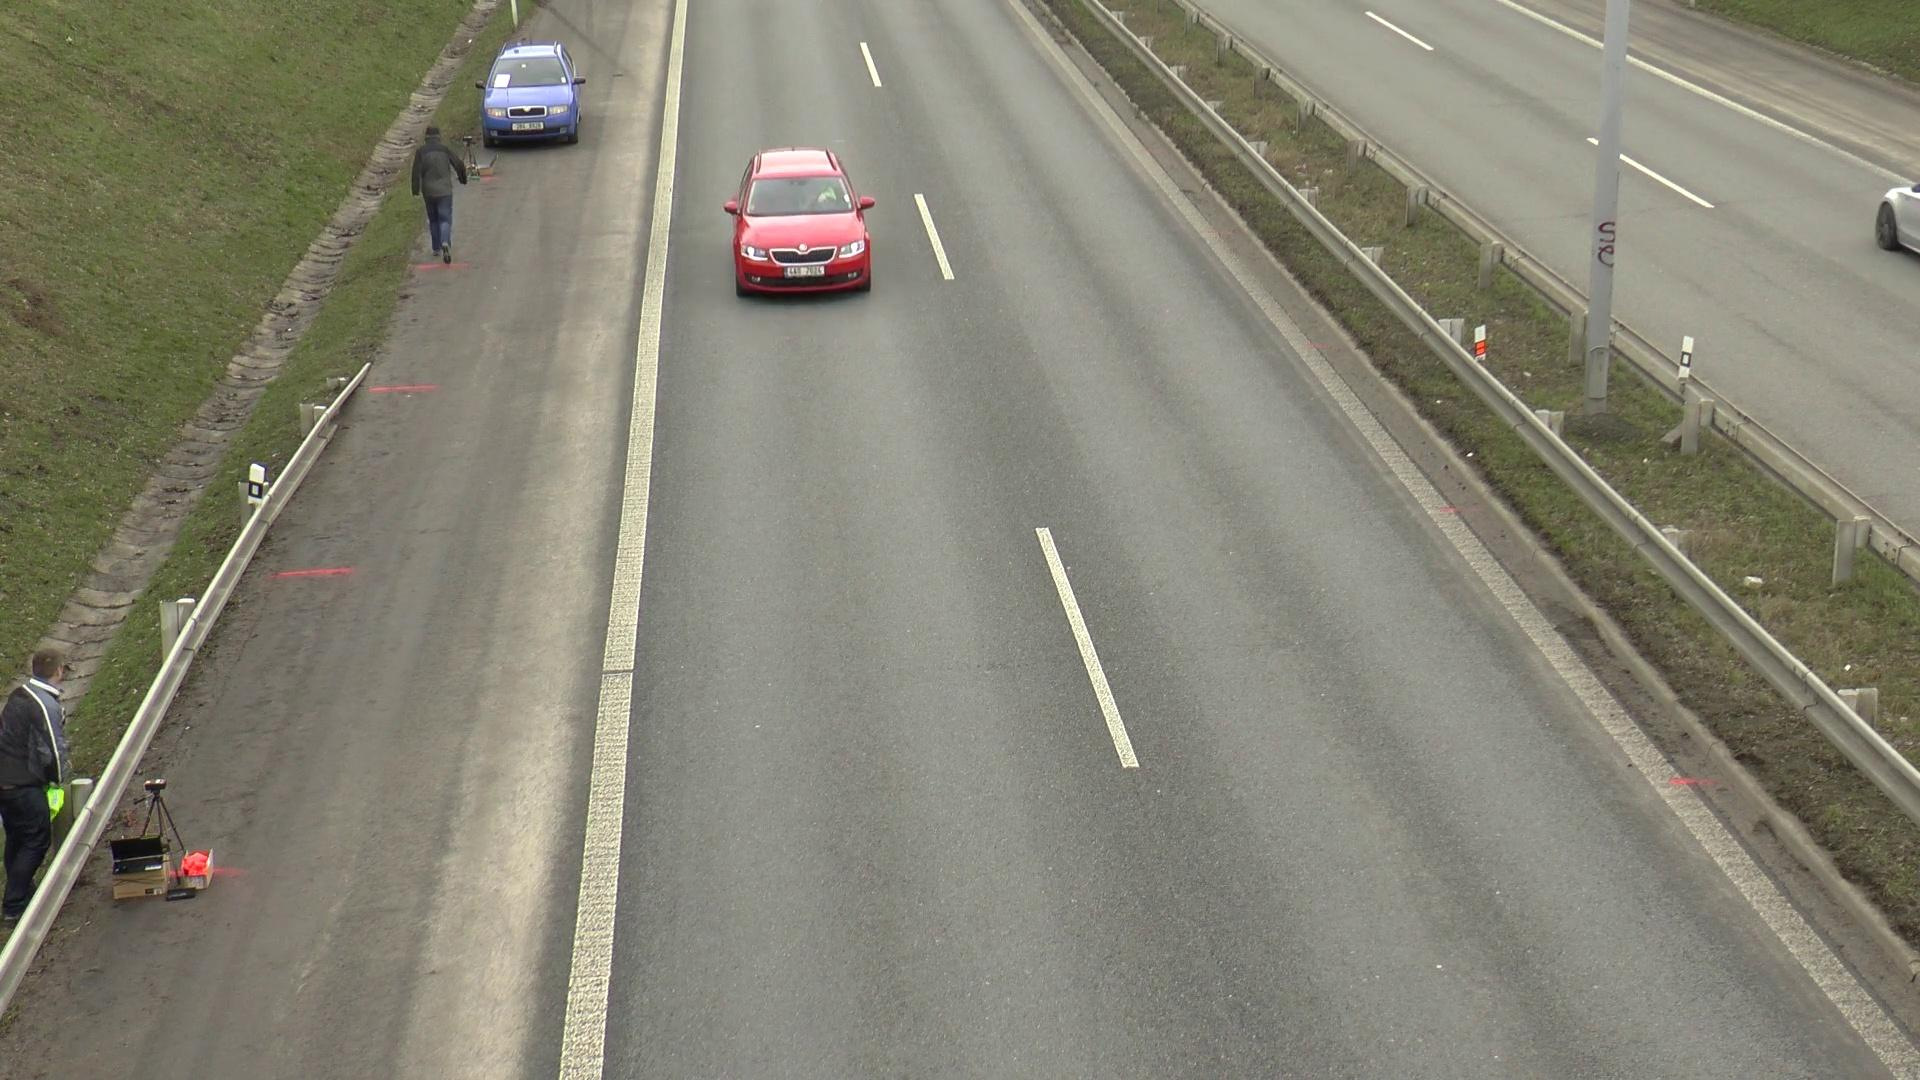Car: (732, 138, 886, 326), (468, 34, 598, 158), (1864, 182, 1920, 267)
Human: (402, 126, 475, 287)
